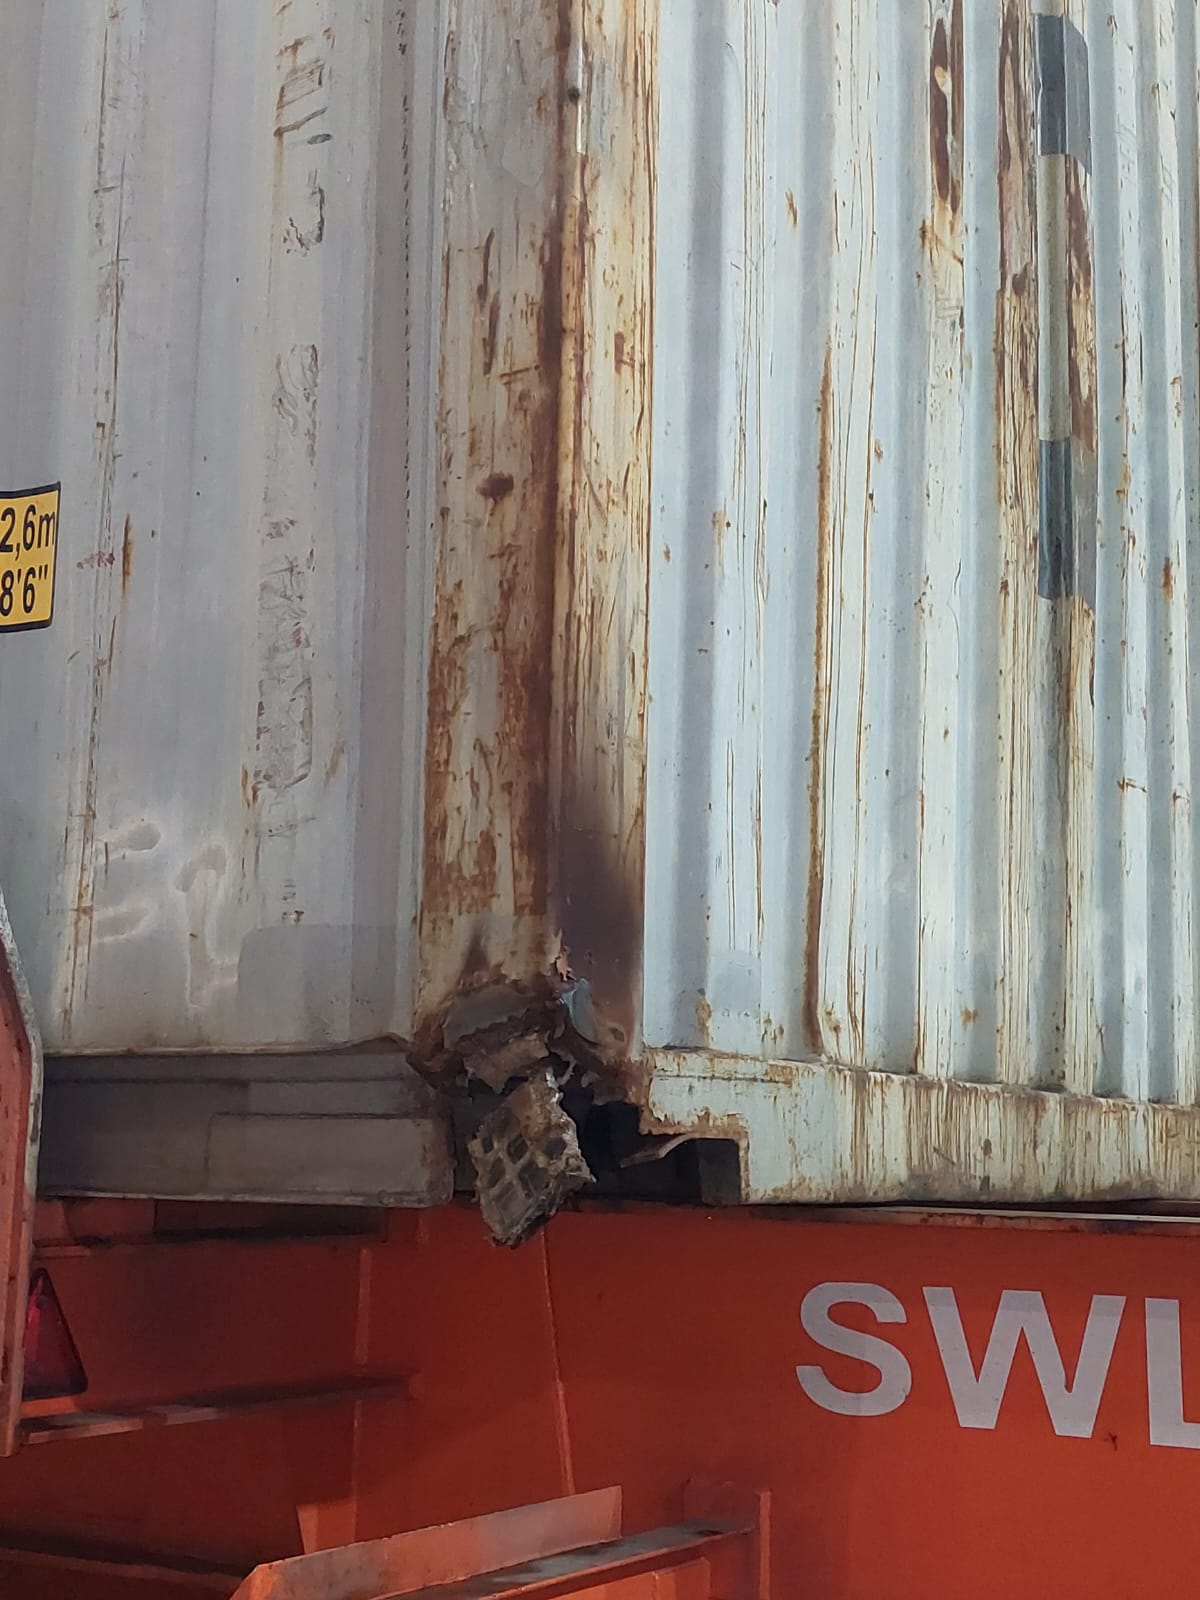dented: (371, 843, 750, 1180)
